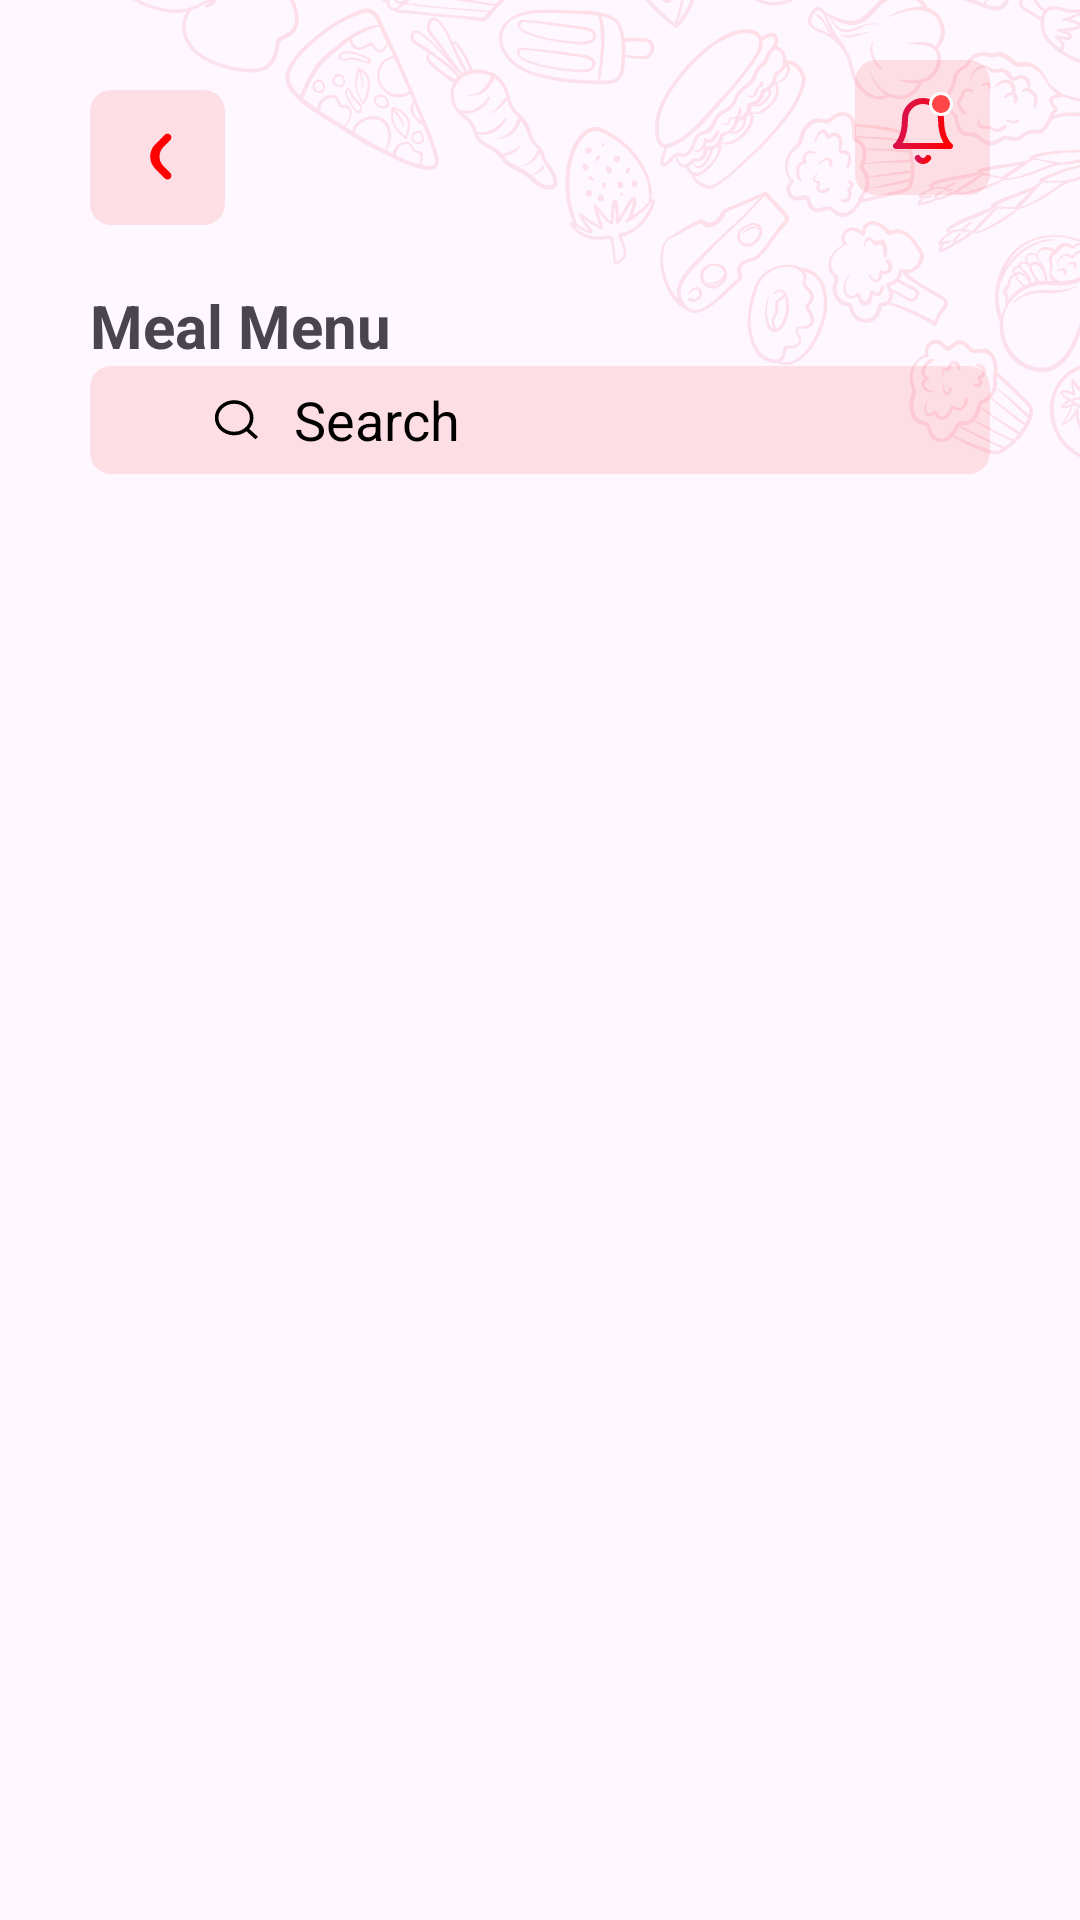

Screen size 1080w x 1920h. Icon name, then its box in pixels as (x1, y1, x2, y2):
back: (90, 90, 225, 225)
notification: (855, 60, 990, 195)
